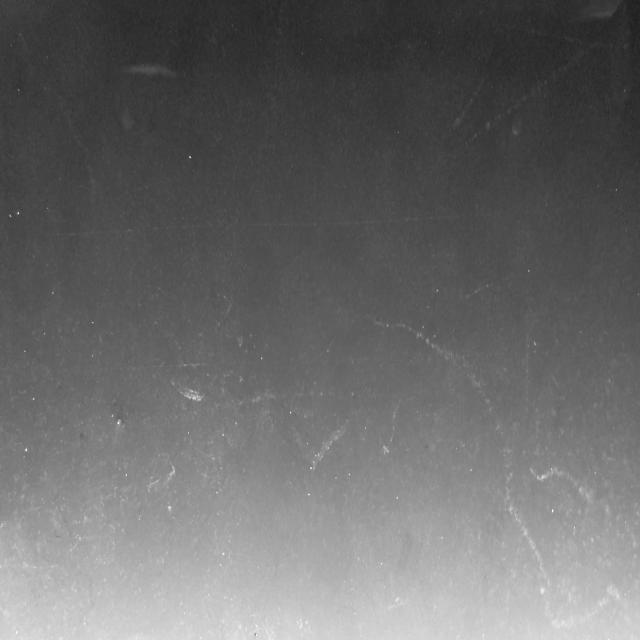beta: (367, 314, 551, 594), (460, 31, 602, 152), (16, 34, 99, 210), (528, 464, 640, 556), (156, 389, 354, 426), (523, 13, 631, 58), (442, 62, 496, 144), (539, 586, 627, 632), (459, 273, 514, 305)
